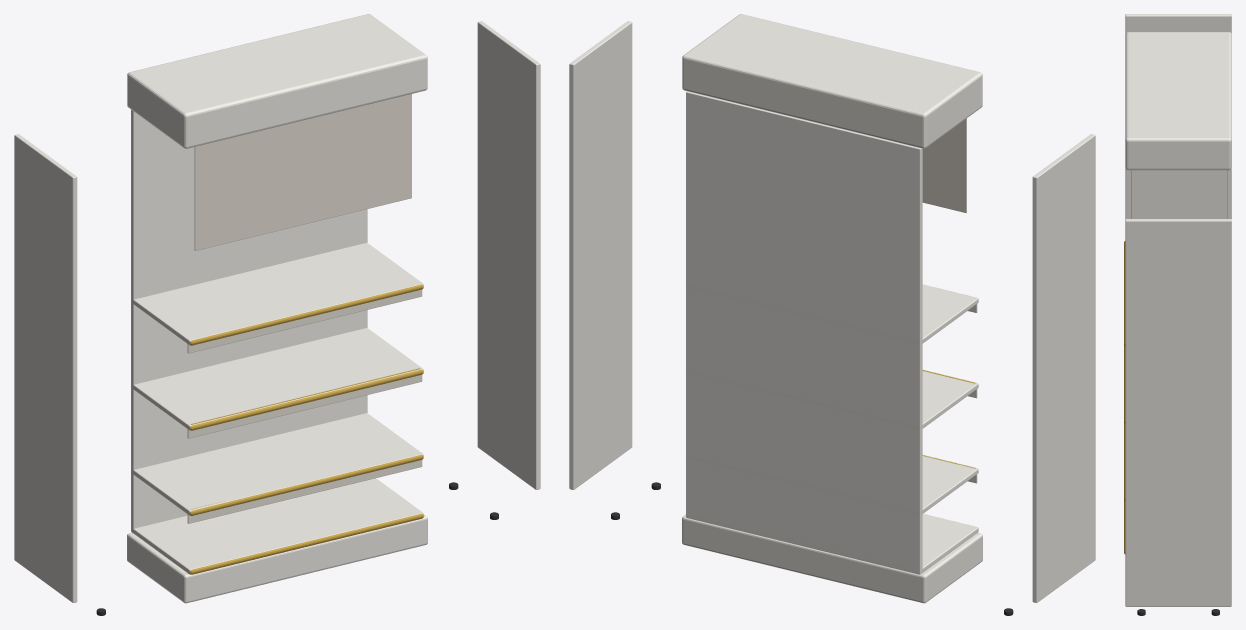
Rendered from rack.glb.
The picture shows the model from 3 angles, left to right: view 1: azimuth 30°, elevation 25°; view 2: azimuth 150°, elevation 25°; view 3: azimuth 270°, elevation 25°; orthographic projection. The views are drawn at different scales.
Visible parts, largest first — view 1: back.panel, side.panel_1, side.panel_2, crown.arch, panel.header.backlit, shelf.mid_1, shelf.mid_3, shelf.mid_2, deck.bottom, plinth.base, lip.shelf_2, lip.shelf_3 (+5 smaller); view 2: back.panel, side.panel_1, side.panel_2, crown.arch, plinth.base, panel.header.backlit, shelf.mid_3, shelf.mid_1, deck.bottom, shelf.mid_2; view 3: side.panel_2, crown.arch, side.panel_1, back.panel, trim.gold.shelf_3.
Boxes of the visible parts, box(x1,y1,x2,y2) form: back.panel: box(131, 109, 367, 533); side.panel_1: box(14, 134, 77, 602); side.panel_2: box(477, 21, 540, 489); crown.arch: box(127, 14, 427, 148); panel.header.backlit: box(194, 94, 411, 250); shelf.mid_1: box(131, 413, 423, 515); shelf.mid_3: box(131, 242, 423, 345); shelf.mid_2: box(131, 328, 423, 430); deck.bottom: box(131, 478, 423, 574); plinth.base: box(127, 514, 427, 603); lip.shelf_2: box(187, 367, 422, 438); lip.shelf_3: box(187, 289, 422, 353); back.panel: box(686, 91, 922, 574); side.panel_1: box(1032, 134, 1095, 602); side.panel_2: box(569, 21, 632, 489); crown.arch: box(682, 14, 982, 148); plinth.base: box(682, 514, 982, 603); panel.header.backlit: box(922, 118, 966, 212); shelf.mid_3: box(686, 284, 978, 344); shelf.mid_1: box(686, 455, 978, 514); deck.bottom: box(686, 514, 978, 573); shelf.mid_2: box(686, 370, 978, 429); side.panel_2: box(1125, 219, 1231, 606); crown.arch: box(1125, 32, 1231, 170); side.panel_1: box(1125, 14, 1231, 219); back.panel: box(1227, 168, 1231, 218); trim.gold.shelf_3: box(1124, 241, 1125, 346).
Size of the model in its own units: 1.75 by 1.75 by 0.3859.
